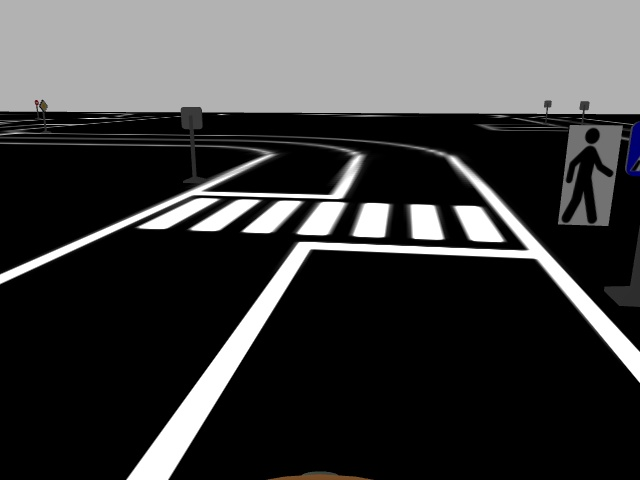pedestrian: (555, 121, 628, 226)
